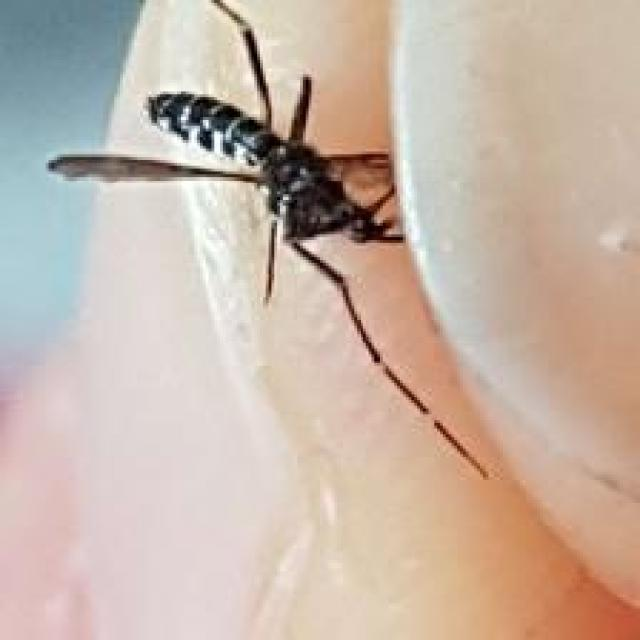Aedes albopictus: (47, 0, 490, 480)
